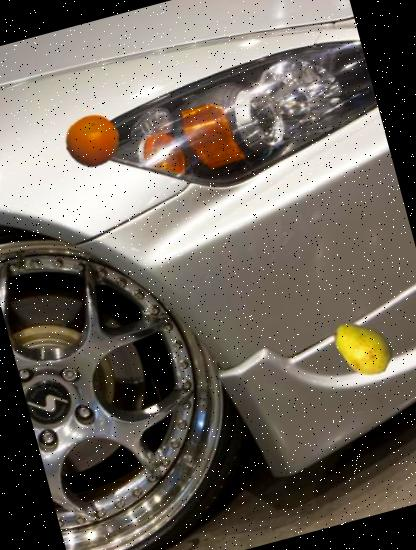Grapefruit: (60, 108, 127, 175)
Pear: (320, 308, 402, 388)
